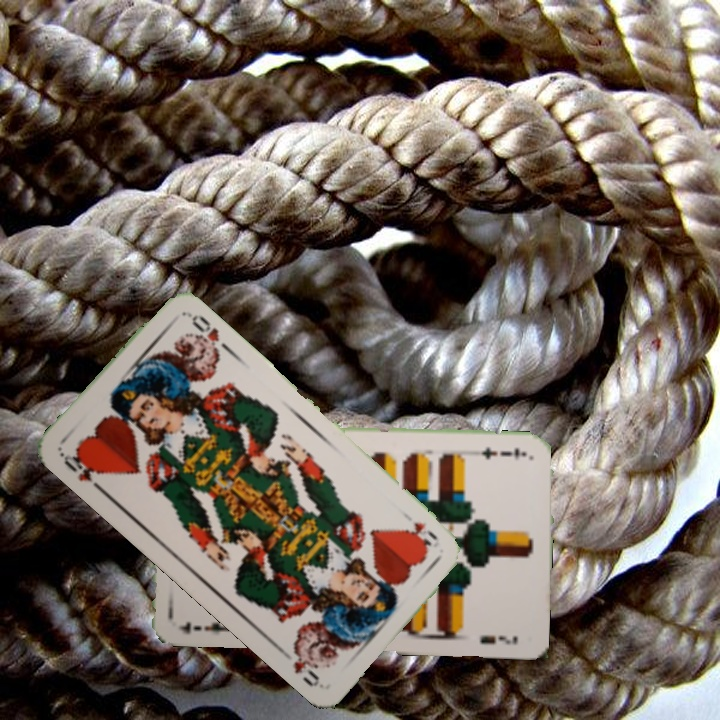E7: (174, 618, 233, 636), (477, 443, 529, 463)
HO: (57, 446, 106, 494), (408, 518, 441, 548)
